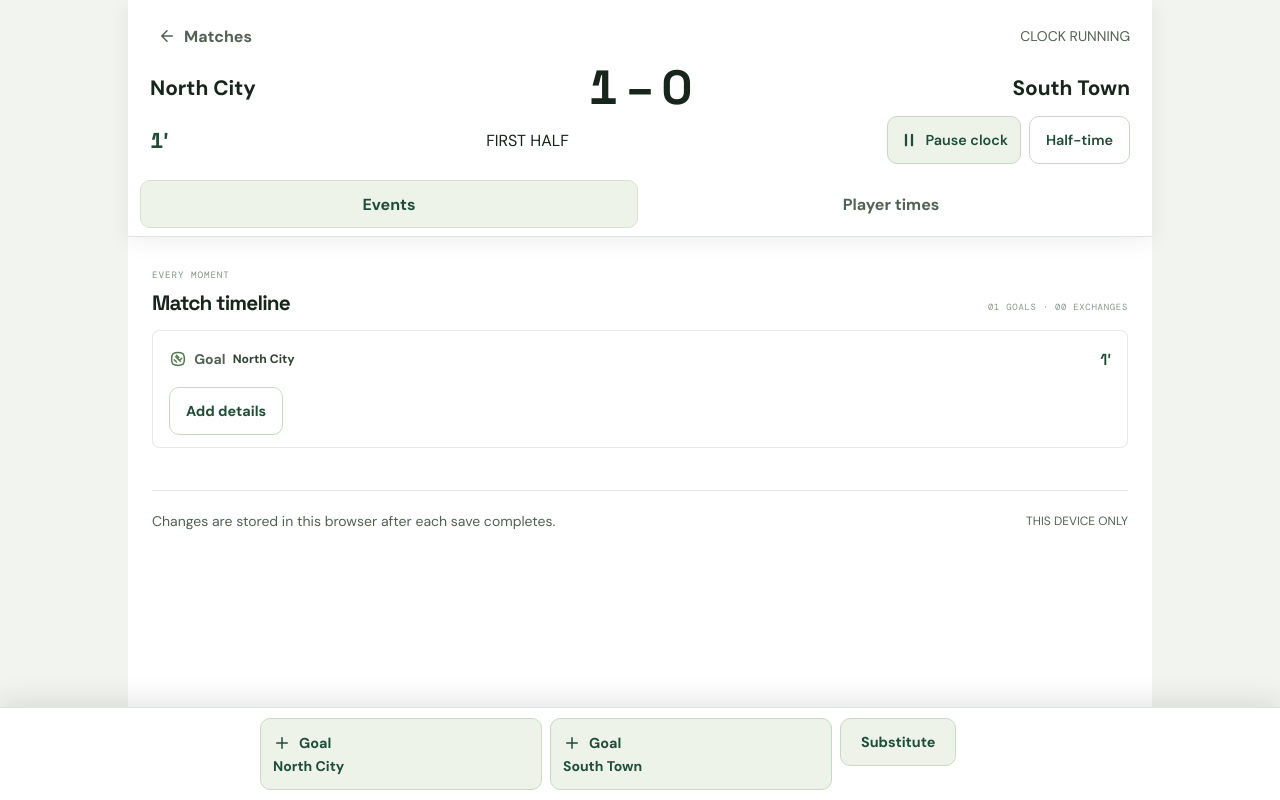
Scenario: MatchDetailPage › records a substitution from Player times and returns to the originating panel
The width and height of the screenshot is (1280, 800).
Click the tab "Player times". click: {"x": 891, "y": 204}
box: [642,180,1140,228]
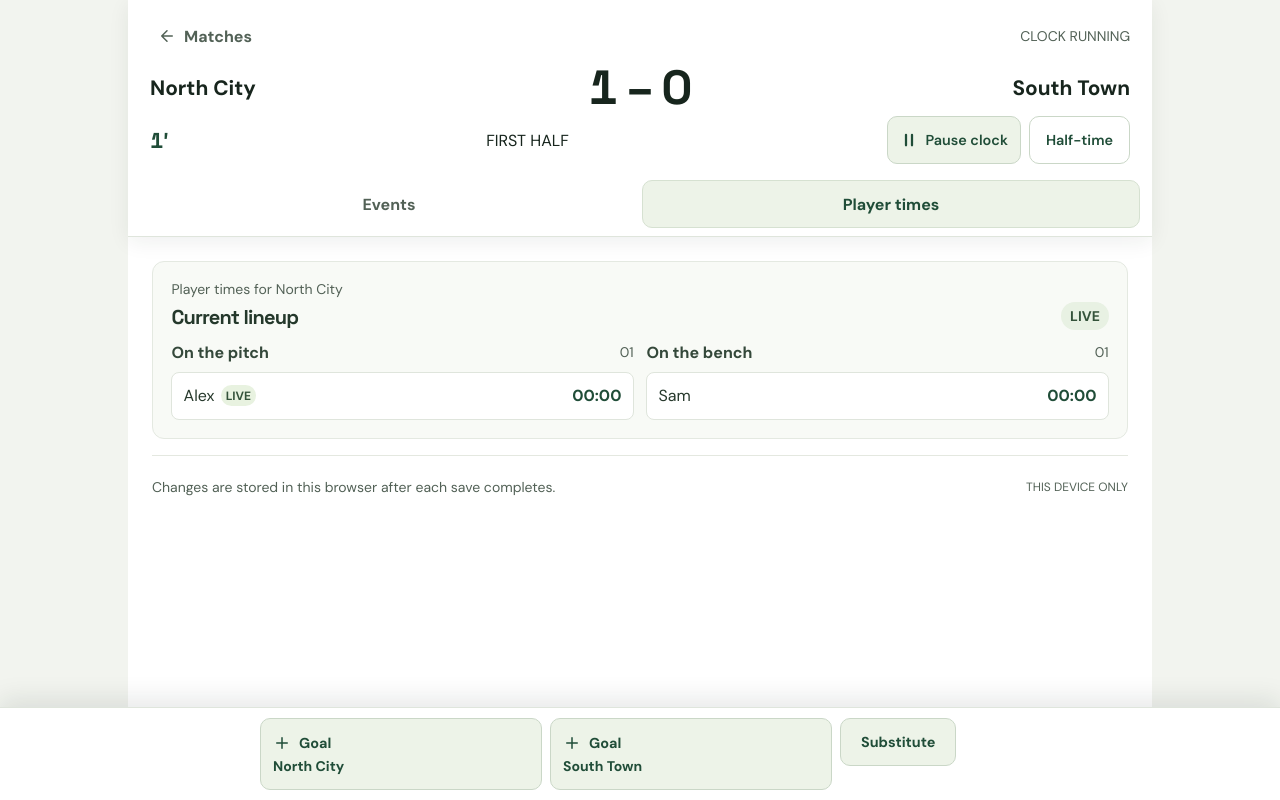
Click the button "Substitute". click: {"x": 898, "y": 742}
box: [840,718,956,766]
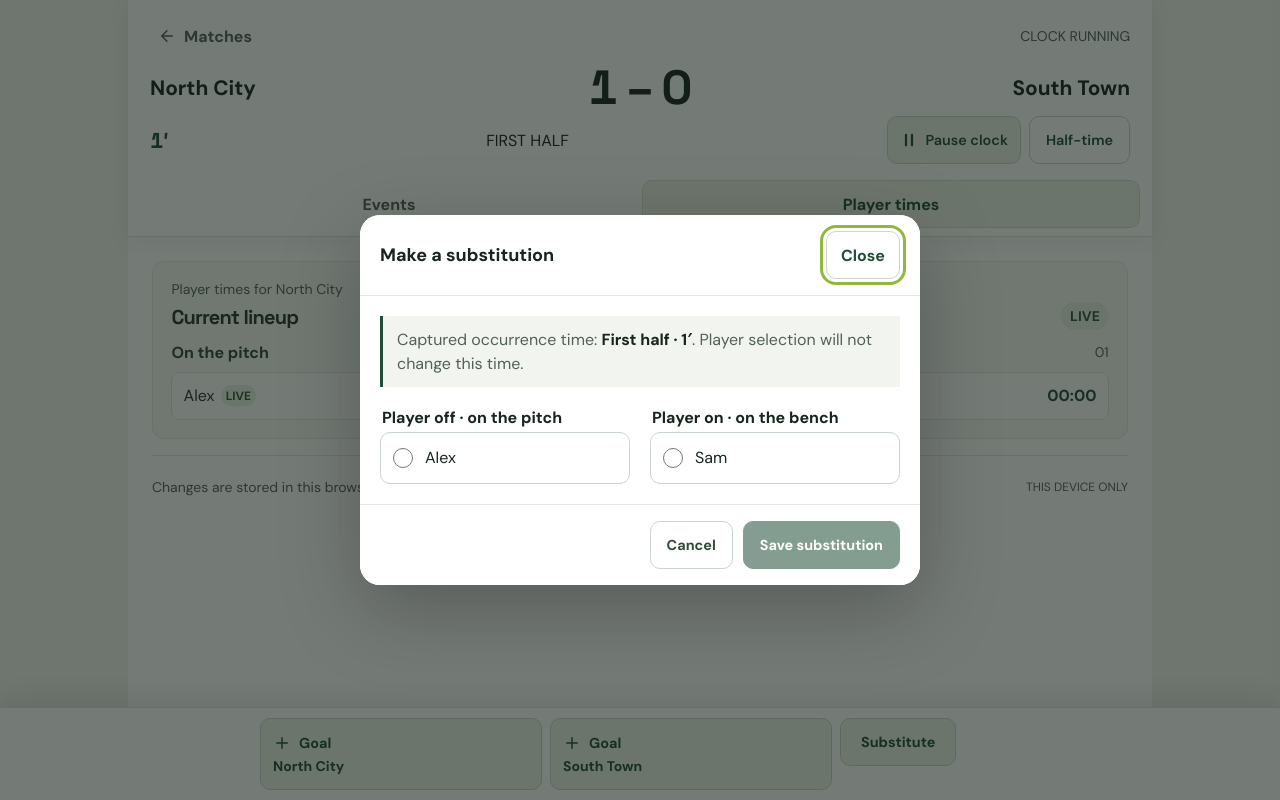
Click the radio button named "outgoingPlayer". click: {"x": 403, "y": 458}
box: [393,448,413,468]
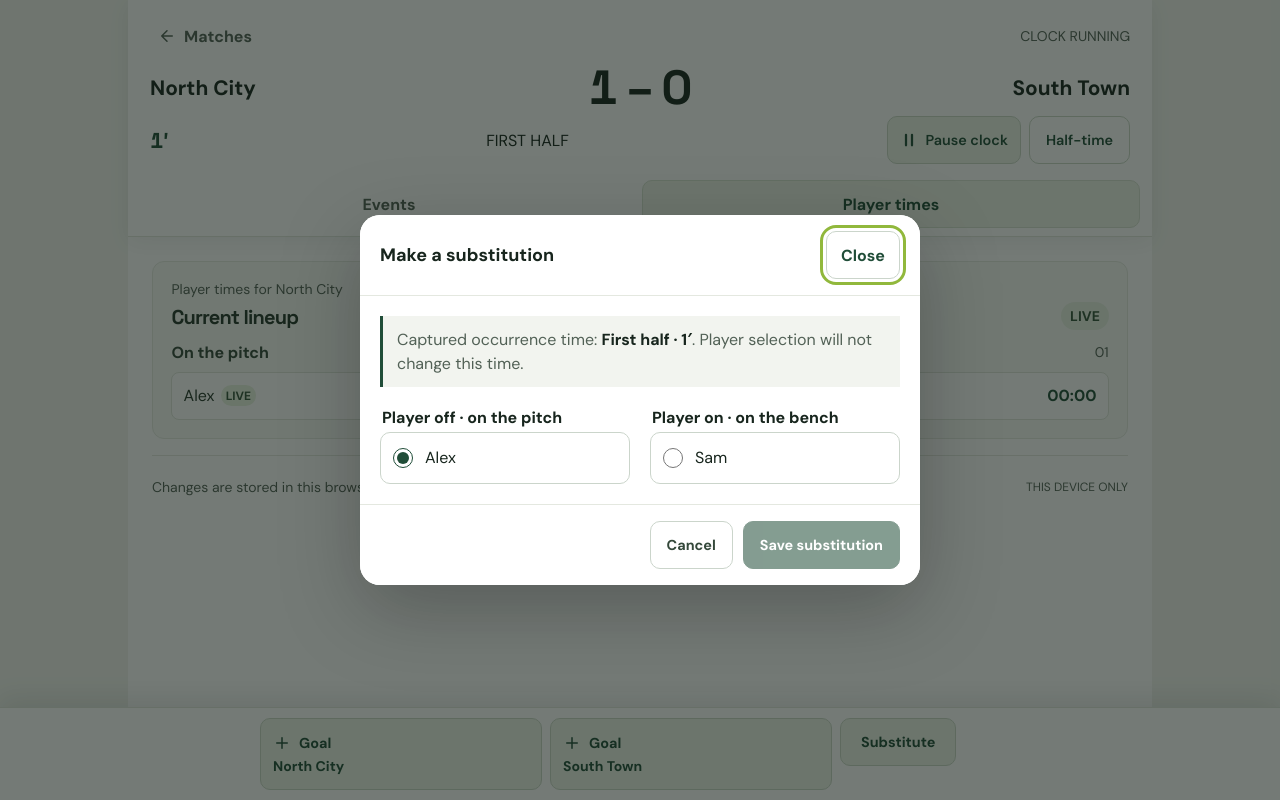
Click the radio button named "incomingPlayer". click: {"x": 673, "y": 458}
box: [663,448,683,468]
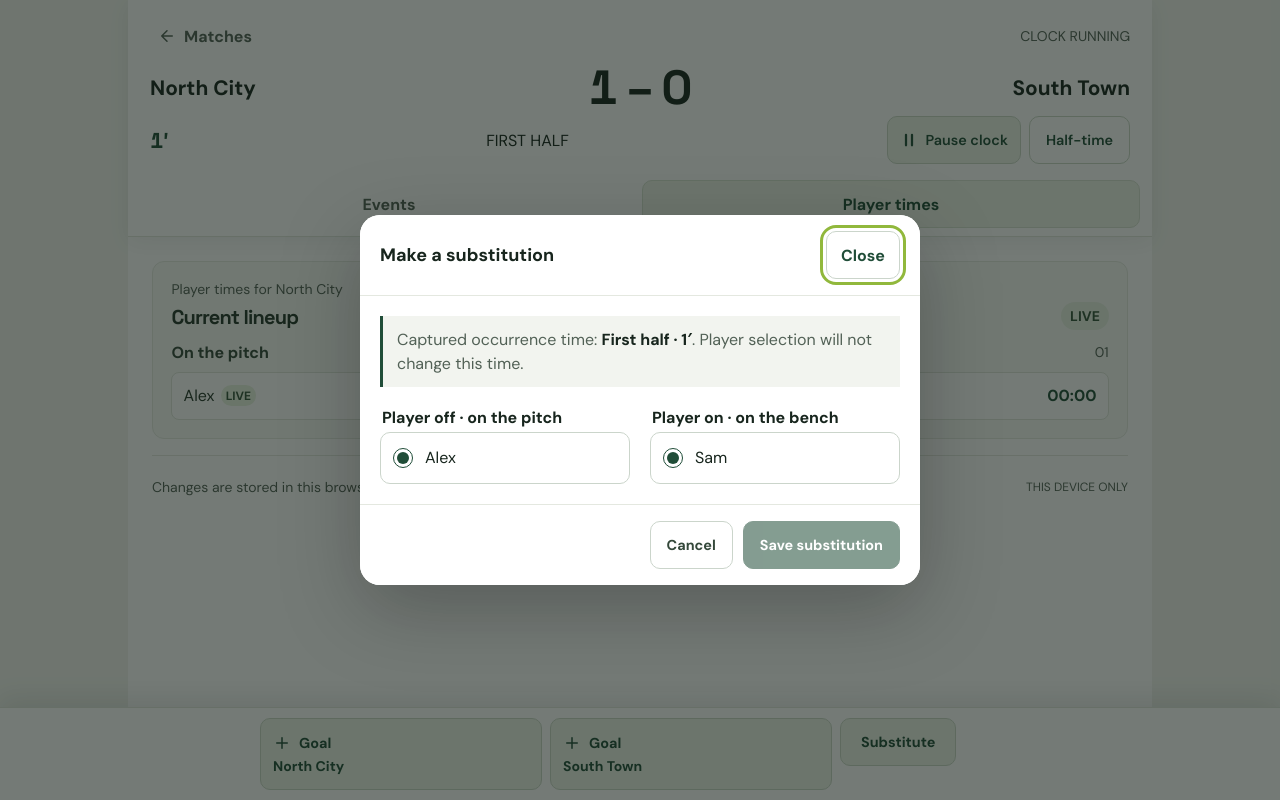
Submit the form with class "substitution-form", box [380,316,900,484]
Wait 100 ms
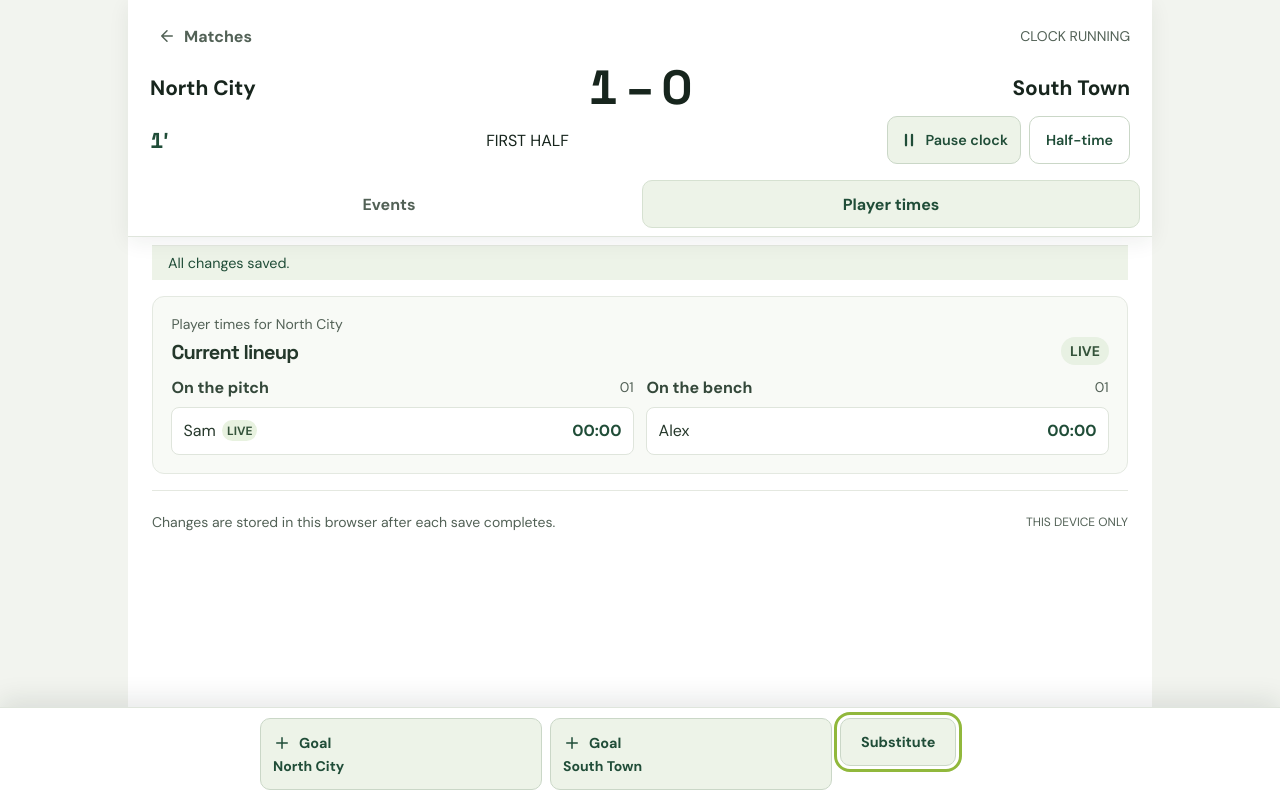
Expected: the panel is shown, [152,296,1128,474]
Expected: the element that starts with "Player times for North City" shows "Sam", [184,420,216,441]
Expected: the dialog is gone
